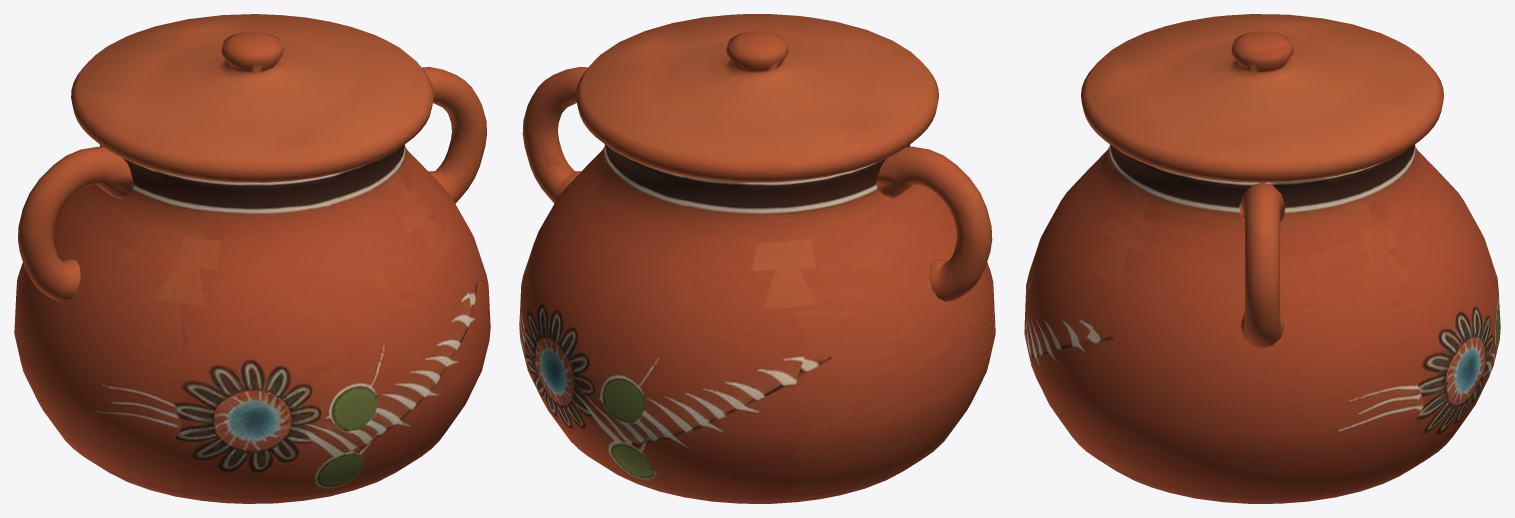
File: olla.obj
3 renders of one model, left to right at view 1: azimuth 30°, elevation 25°; view 2: azimuth 150°, elevation 25°; view 3: azimuth 270°, elevation 25°, orthographic.
Parts seen in each view (by area): view 1: olla; view 2: olla; view 3: olla.
Boxes of the visible parts, x1,y1,x2,y2 form: olla: (14,14,490,503); olla: (519,14,995,503); olla: (1024,14,1500,503).
Bounding box in the file's own units: 0.2749 × 0.231 × 0.2439.
